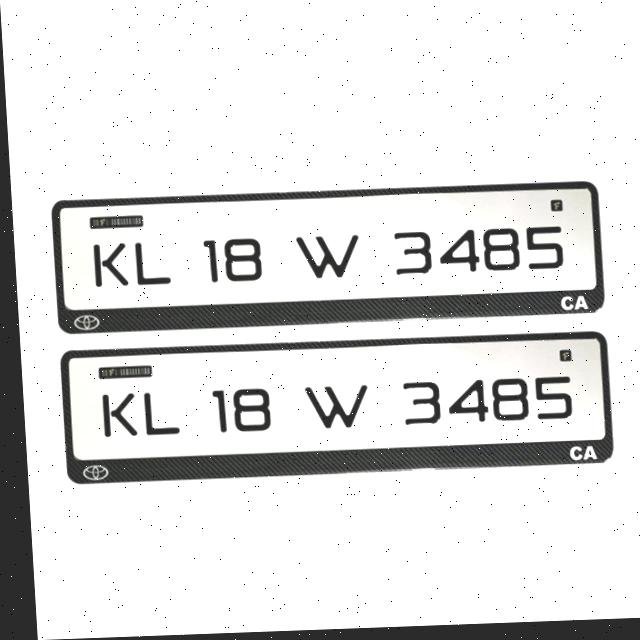plate: (51, 334, 611, 486), (49, 184, 601, 334)
